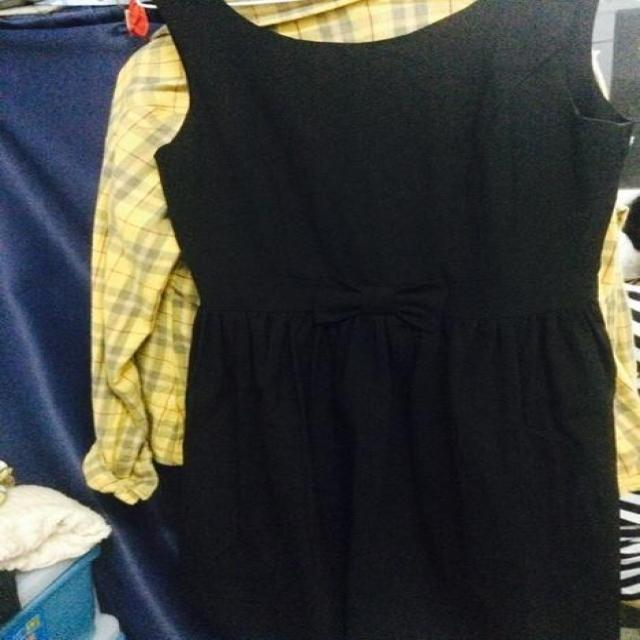short-sleeve-dress: (113, 0, 640, 639)
